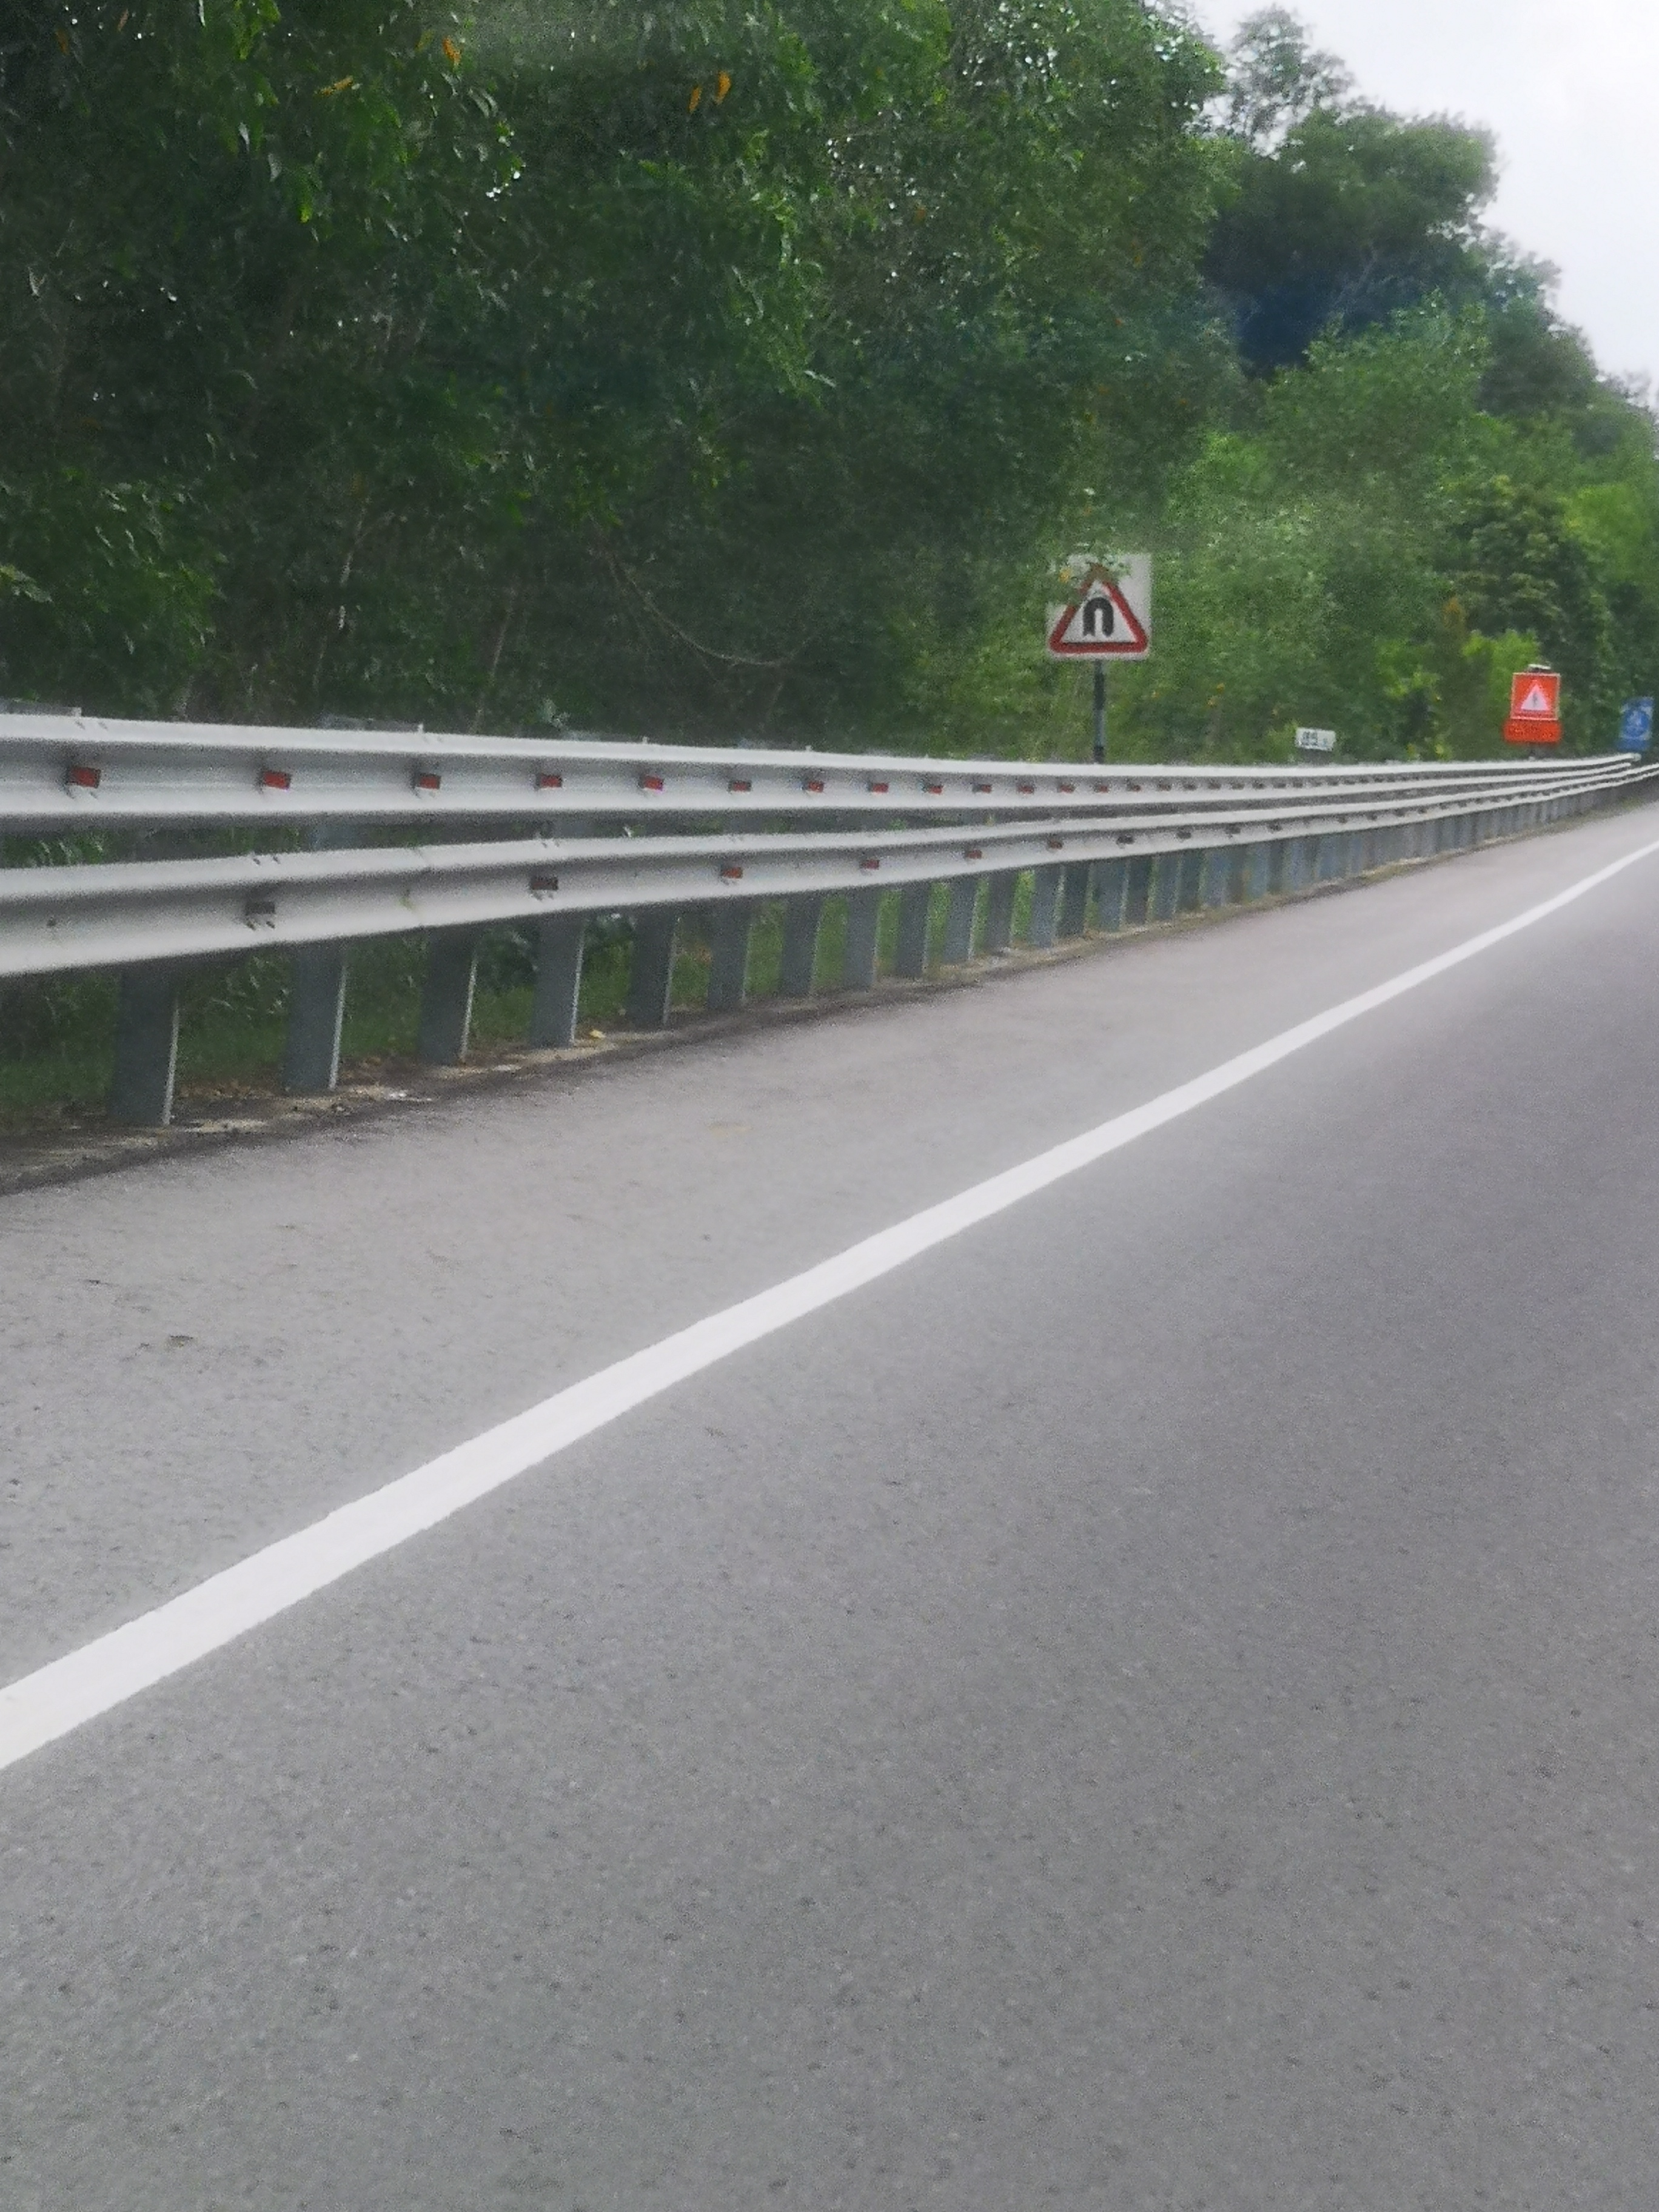U-turn: (1035, 554, 1150, 665)
